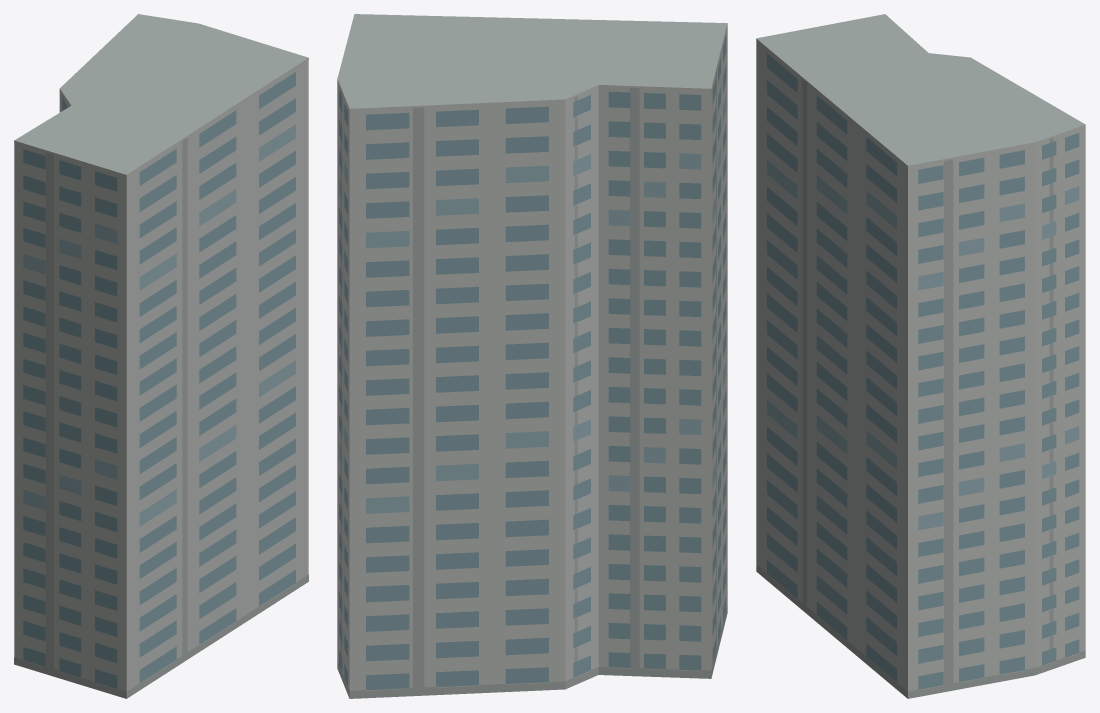
Rendered from residential-a90fcc4e-45c4-4b38-a676-d62f94f78d03.glb.
3 views of the same model, side by side, from view 1: azimuth 30°, elevation 25°; view 2: azimuth 150°, elevation 25°; view 3: azimuth 270°, elevation 25° (orthographic). The views are drawn at different scales.
Visible parts, largest first — view 1: residential-a90fcc4e-45c4-4b38-a676-d62f94f78d03.tmp; view 2: residential-a90fcc4e-45c4-4b38-a676-d62f94f78d03.tmp; view 3: residential-a90fcc4e-45c4-4b38-a676-d62f94f78d03.tmp.
Boxes of the visible parts, <box> form: residential-a90fcc4e-45c4-4b38-a676-d62f94f78d03.tmp: <box>14,14,308,698</box>; residential-a90fcc4e-45c4-4b38-a676-d62f94f78d03.tmp: <box>337,14,727,698</box>; residential-a90fcc4e-45c4-4b38-a676-d62f94f78d03.tmp: <box>756,14,1085,698</box>.
Bounding box in the file's own units: 42.76 × 70 × 39.23.
